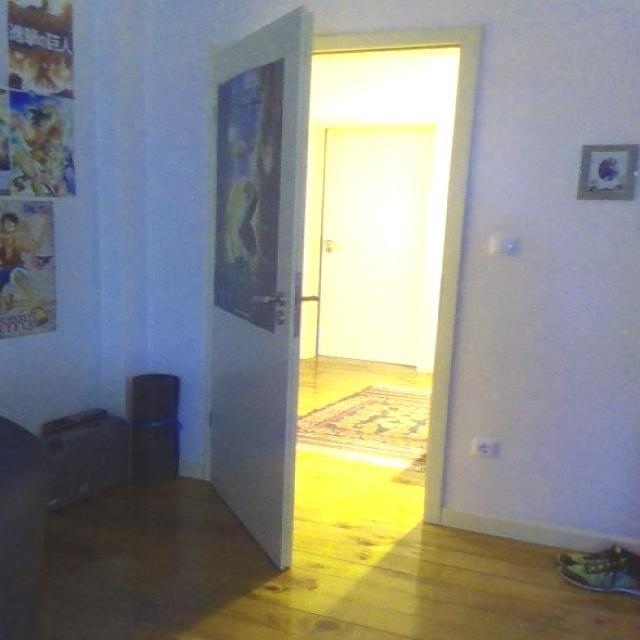door: (196, 0, 323, 575)
